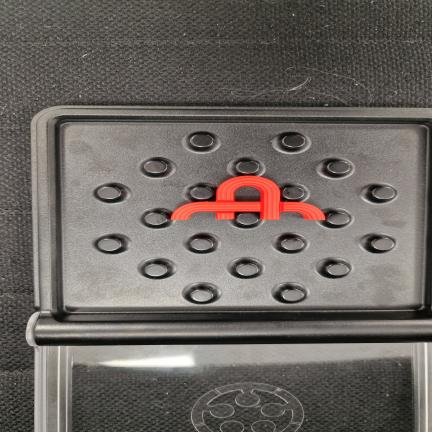E_Red: (172, 176, 325, 220)
board: (31, 106, 432, 345)
hinge: (33, 306, 432, 349)
pin: (326, 160, 351, 175), (97, 186, 122, 200), (282, 133, 305, 148), (190, 134, 214, 148), (190, 186, 214, 200), (326, 212, 350, 226), (98, 238, 122, 252), (190, 237, 214, 251), (280, 237, 304, 251), (370, 237, 394, 251), (235, 263, 259, 277), (280, 288, 304, 302), (143, 264, 168, 277), (236, 160, 259, 174), (144, 160, 167, 174), (282, 186, 305, 200), (144, 212, 167, 226), (371, 187, 395, 200), (236, 213, 259, 226), (326, 263, 349, 276), (190, 289, 213, 302)
